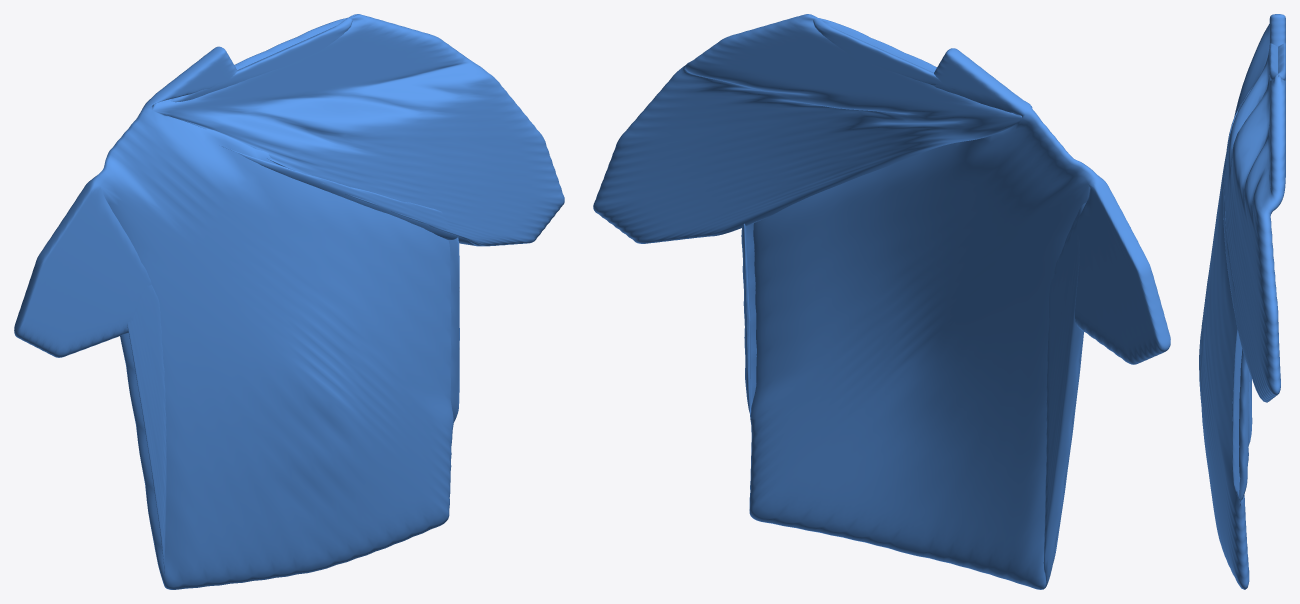
Rendered from jersey.glb.
The picture shows the model from 3 angles, left to right: view 1: azimuth 30°, elevation 25°; view 2: azimuth 150°, elevation 25°; view 3: azimuth 270°, elevation 25°; orthographic projection. The views are drawn at different scales.
Visible parts, largest first — view 1: AxiomJersey; view 2: AxiomJersey; view 3: AxiomJersey.
Boxes of the visible parts, left/top/right/bottom form: AxiomJersey: left=14, top=14, right=564, bottom=589; AxiomJersey: left=593, top=14, right=1170, bottom=589; AxiomJersey: left=1199, top=14, right=1285, bottom=589.
Size of the model in its own units: 3.69 by 3.33 by 0.5376.
